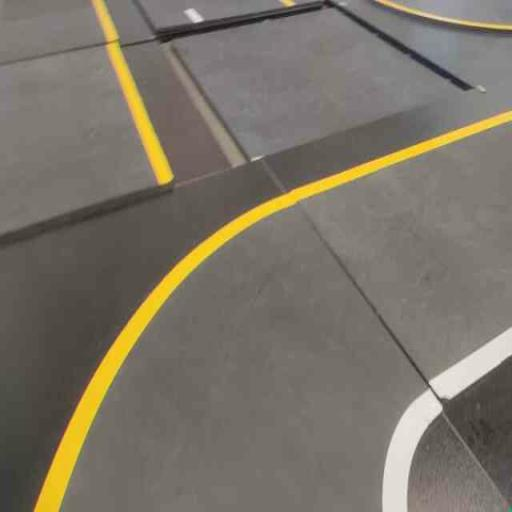right: (30, 165, 451, 511)
